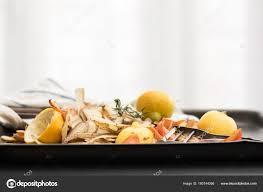Organic: (3, 78, 263, 159)
